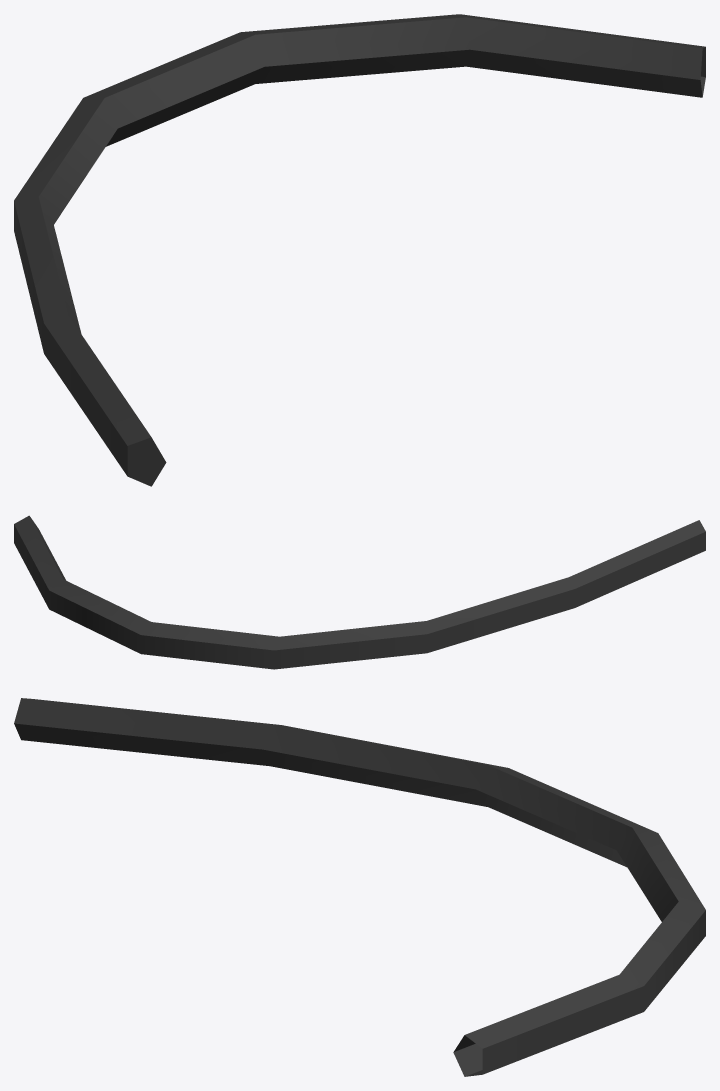
The model's file is CableB.obj.
The picture shows the model from 3 angles, top to bottom: view 1: azimuth 30°, elevation 25°; view 2: azimuth 150°, elevation 25°; view 3: azimuth 270°, elevation 25°; orthographic projection. The views are drawn at different scales.
Size of the model in its own units: 1.5 by 0.0842 by 1.25.
1 material, 1 textured.
